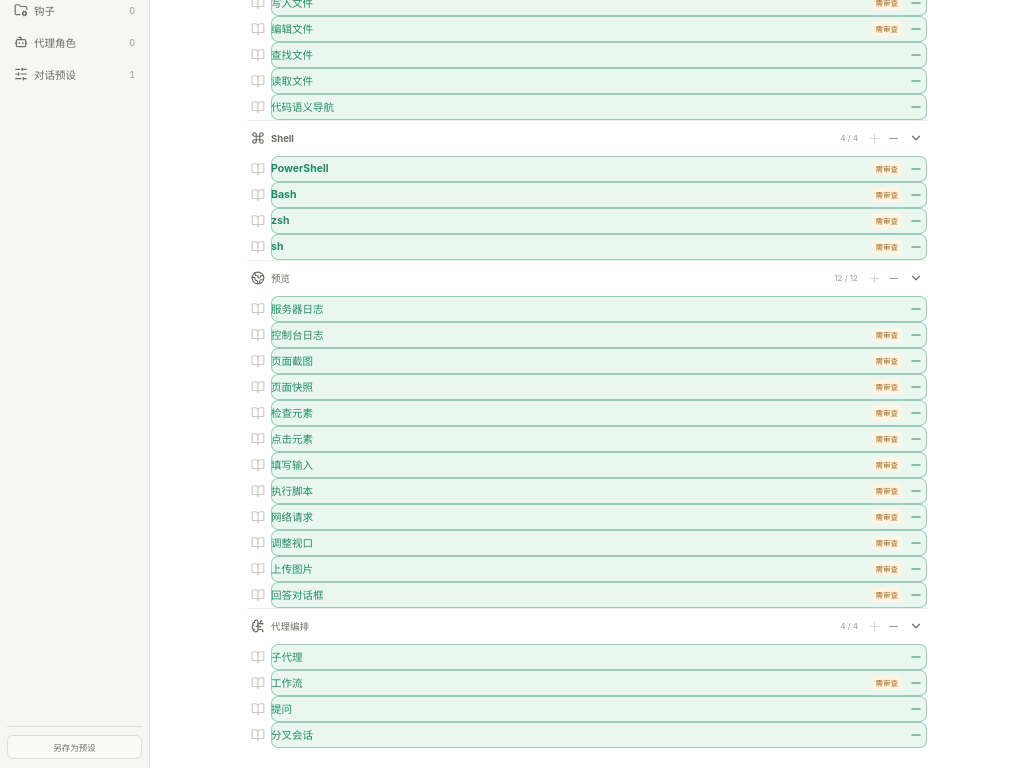
it: ConversationSettings › saves a preset under a name, with the timeline as its template when asked, and opens it at that page
(page scrolled)
Click the button "另存为预设" at [74, 746], box [7,734,142,758]
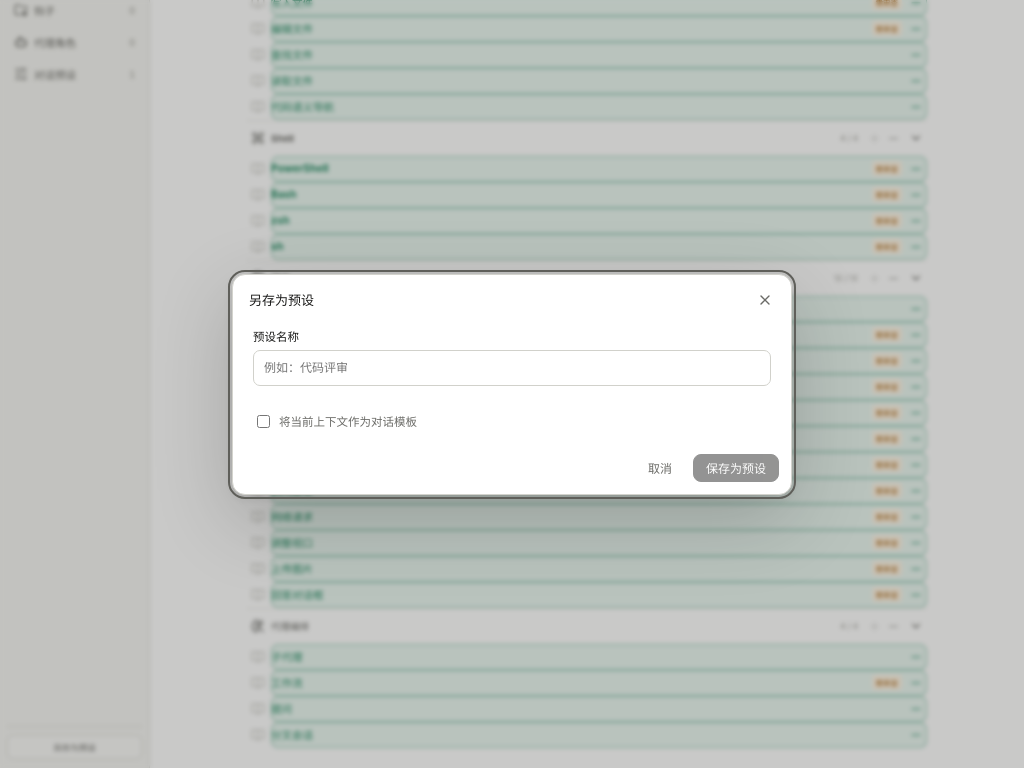
Result: the number of fields is 1
Result: the checkbox labelled "将当前上下文作为对话模板" is not checked at [257,414,270,428]
Result: the button "保存为预设" is disabled at [693,454,779,482]
Type "代码评审" into the field labelled "预设名称" at [512, 368], box [253,350,771,386]
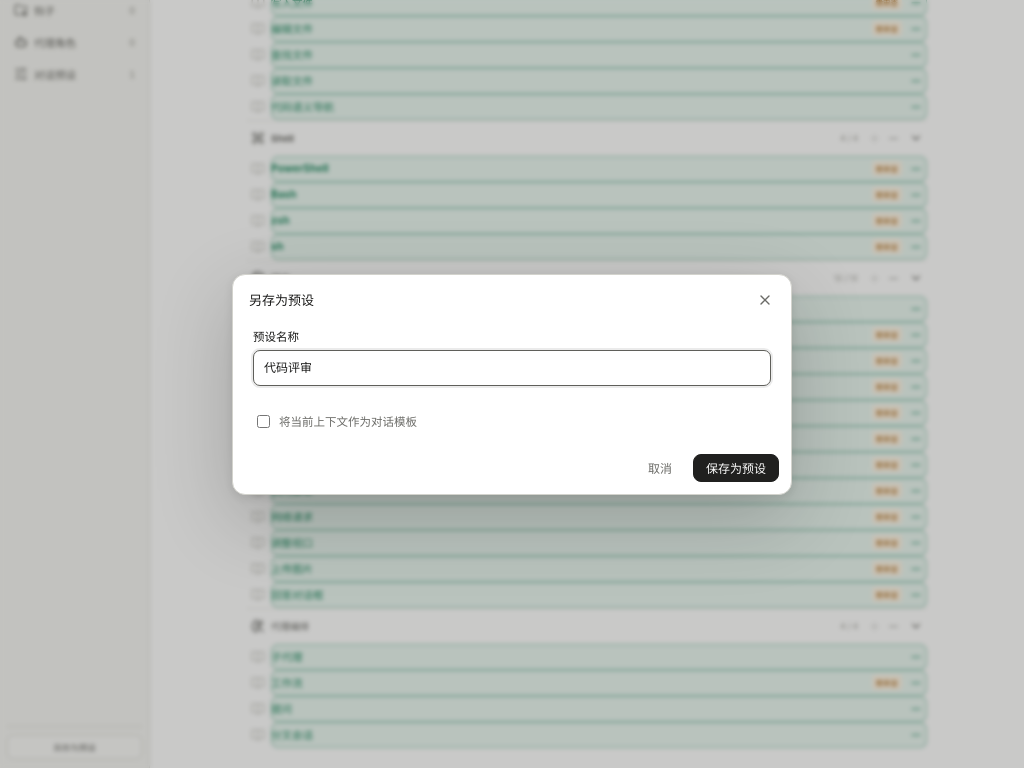
Click the checkbox labelled "将当前上下文作为对话模板" at [264, 421], box [257,414,270,428]
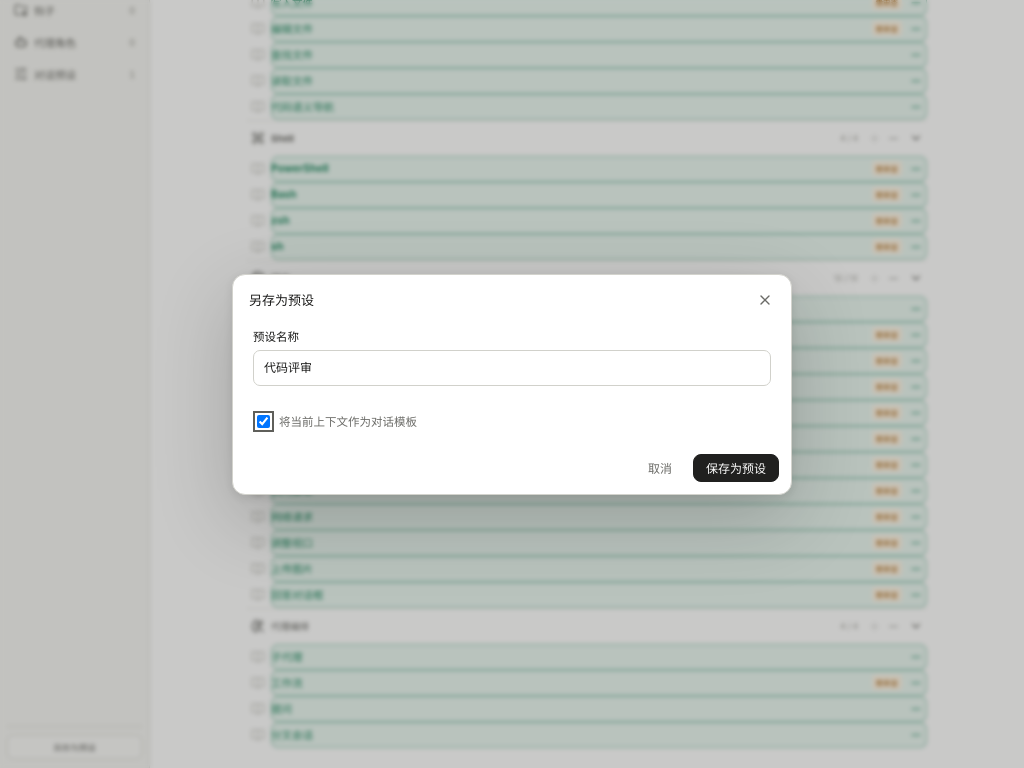
Click the button "保存为预设" at [736, 468], box [693,454,779,482]
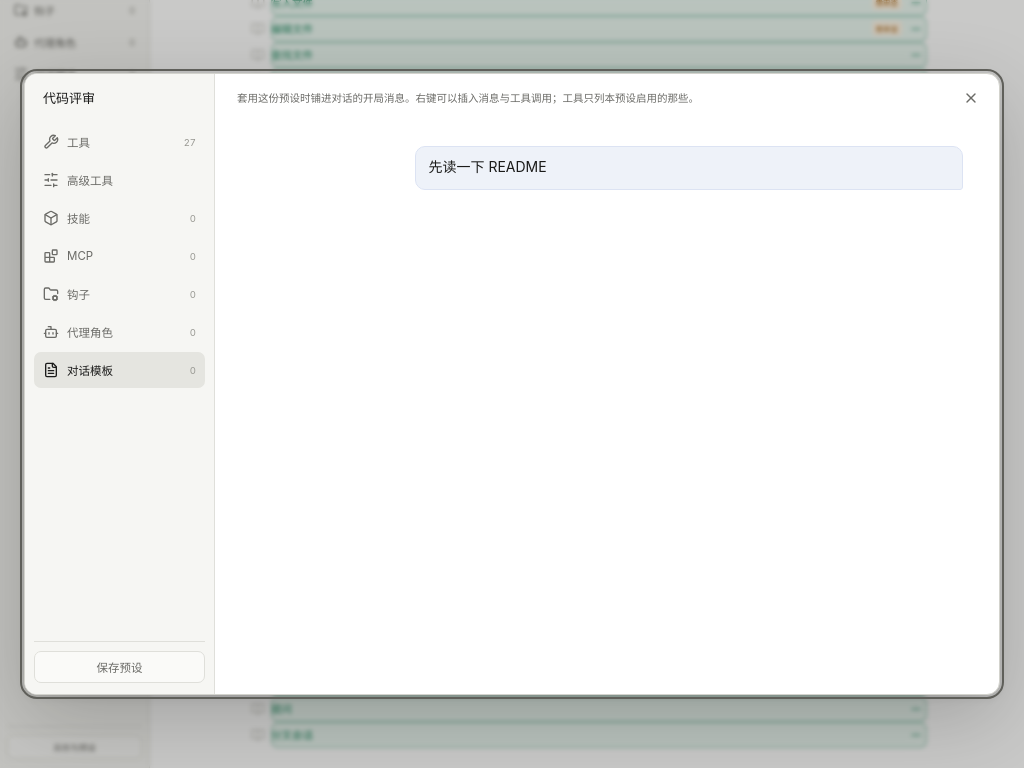
Result: the text "先读一下 README" is shown at [428,158,547,175]
